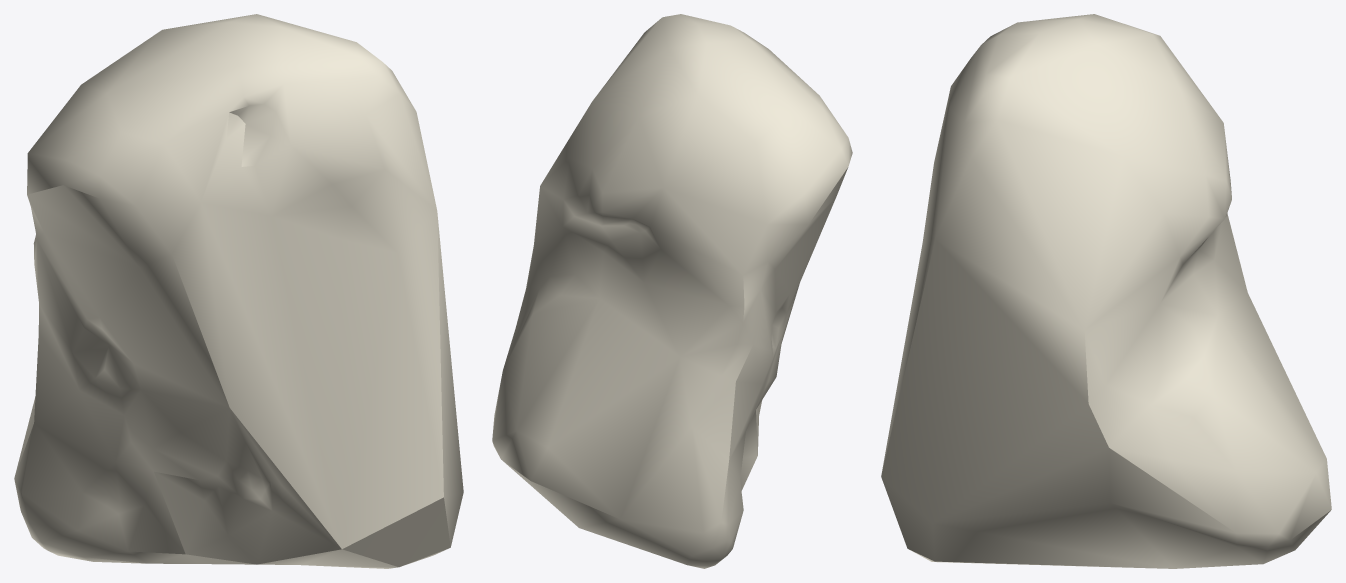
The model's file is fma24447_fj3257.glb.
The picture shows the model from 3 angles, left to right: view 1: azimuth 30°, elevation 25°; view 2: azimuth 150°, elevation 25°; view 3: azimuth 270°, elevation 25°; orthographic projection. The views are drawn at different scales.
Visible parts, largest first — view 1: FMA24447_FJ3257; view 2: FMA24447_FJ3257; view 3: FMA24447_FJ3257.
Boxes of the visible parts, x1,y1,x2,y2 form: FMA24447_FJ3257: (14,14,463,568); FMA24447_FJ3257: (492,14,852,568); FMA24447_FJ3257: (881,14,1331,568).
Bounding box in the file's own units: 0.0157 × 0.0224 × 0.0168.
